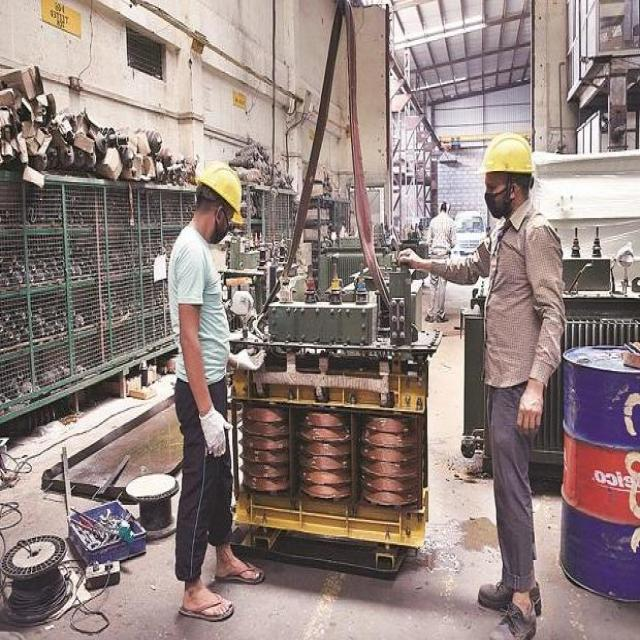Safety-Helmet: (192, 156, 246, 225), (475, 126, 540, 182)
